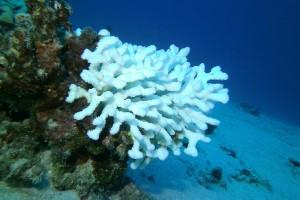bleached_corals: (50, 12, 242, 192)
